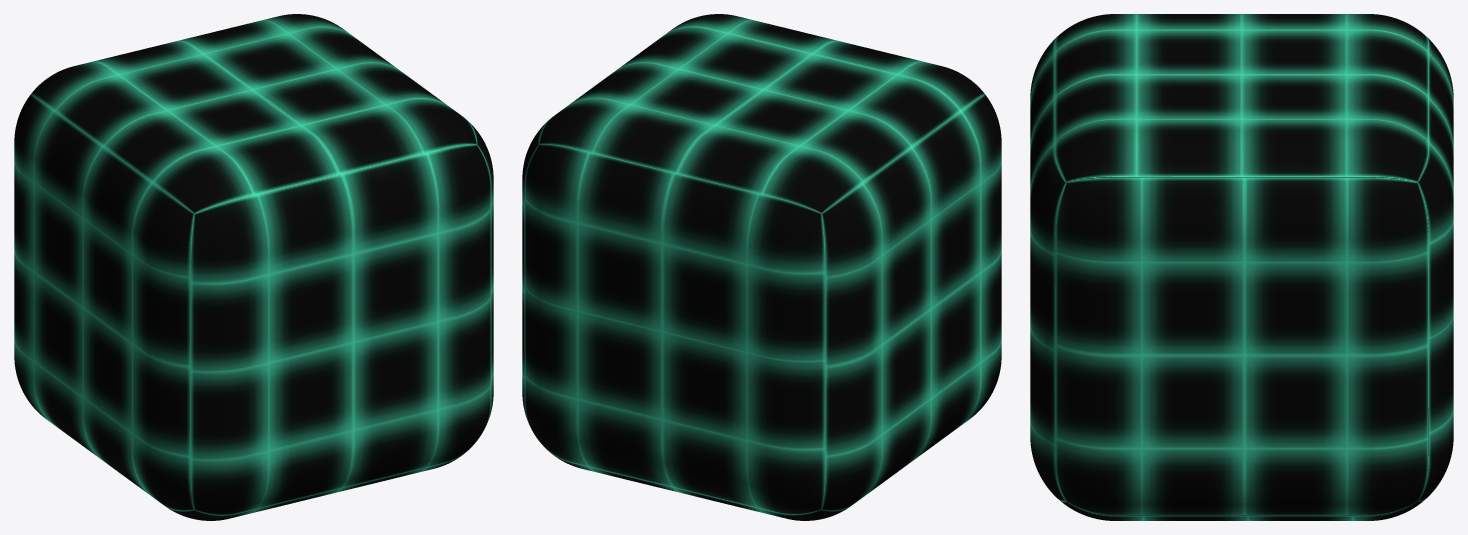
The picture shows the model from 3 angles, left to right: view 1: azimuth 30°, elevation 25°; view 2: azimuth 150°, elevation 25°; view 3: azimuth 270°, elevation 25°; orthographic projection. The views are drawn at different scales.
Visible parts, largest first — view 1: Cube; view 2: Cube; view 3: Cube.
Boxes of the visible parts, x1,y1,x2,y2 form: Cube: [14, 14, 493, 520]; Cube: [522, 14, 1001, 520]; Cube: [1030, 14, 1453, 520].
Bounding box in the file's own units: 2 × 2 × 2.
1 material, 1 textured.
